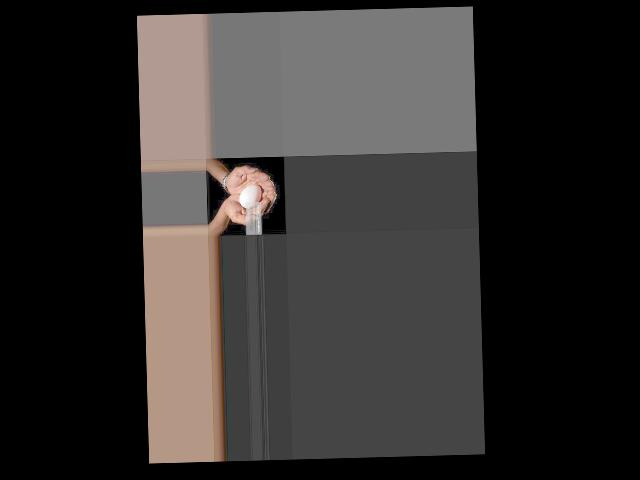egg: (239, 184, 262, 208)
